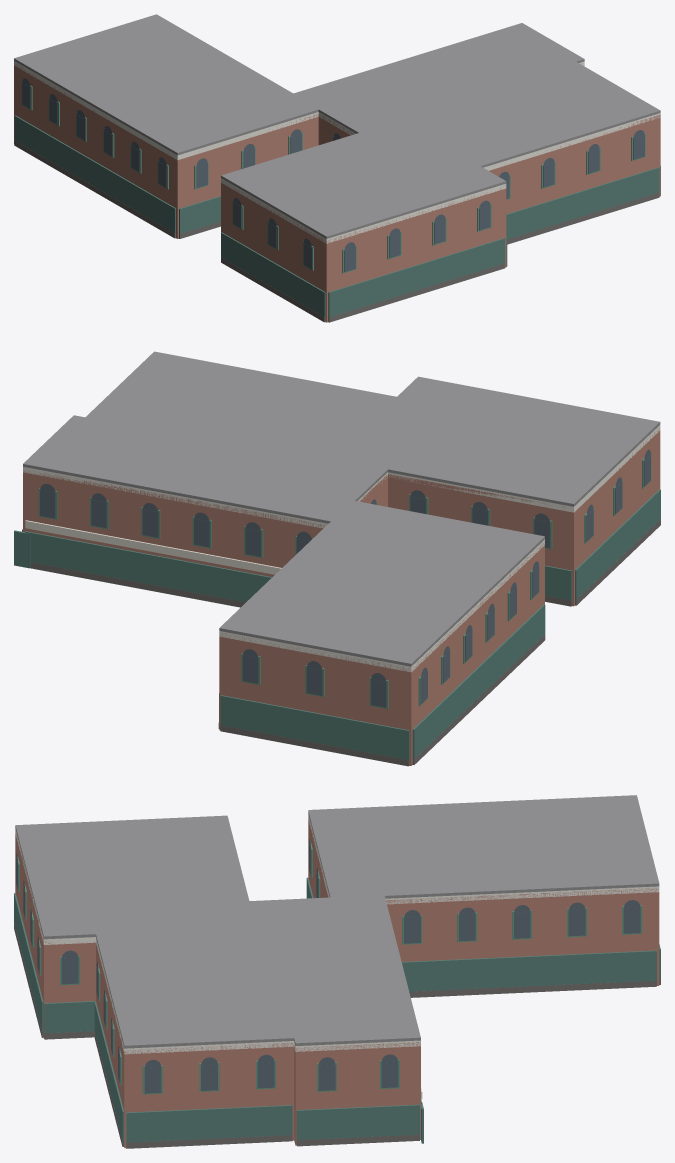
The model's file is s34_gis_248056_820832_detail.glb.
3 views of the same model, one above another, from view 1: azimuth 30°, elevation 25°; view 2: azimuth 150°, elevation 25°; view 3: azimuth 270°, elevation 25° (orthographic). The views are drawn at different scales.
Parts seen in each view (by area): view 1: roofcap, mass, band_7_1.55, cornice, band_12_1.55, band_5_1.55, band_8_1.55, band_11_1.55, band_7_0.25, band_12_0.25, band_5_0.25, band_8_0.25; view 2: roofcap, mass, band_1_1.55, band_13_1.55, cornice, band_12_1.55, band_8_1.55, band_1_3.5, band_1_0.25, band_13_0.25, band_12_0.25, band_9_1.55 (+1 smaller); view 3: roofcap, mass, band_0_1.55, band_4_1.55, cornice, band_2_1.55, band_0_0.25, band_6_1.55, band_5_1.55, band_4_0.25, band_7_1.55, band_2_0.25.
Boxes of the visible parts, box(x1,y1,x2,y2) form: roofcap: box(14, 14, 660, 238); mass: box(14, 64, 660, 322); band_7_1.55: box(328, 238, 505, 319); cornice: box(14, 61, 660, 243); band_12_1.55: box(14, 115, 175, 235); band_5_1.55: box(506, 167, 659, 239); band_8_1.55: box(221, 232, 325, 317); band_11_1.55: box(179, 196, 220, 233); band_7_0.25: box(328, 263, 505, 322); band_12_0.25: box(14, 140, 175, 238); band_5_0.25: box(507, 192, 659, 244); band_8_0.25: box(221, 257, 325, 322); roofcap: box(23, 351, 660, 666); mass: box(23, 428, 660, 765); band_1_1.55: box(25, 531, 271, 602); band_13_1.55: box(220, 695, 409, 762); cornice: box(23, 425, 660, 672); band_12_1.55: box(412, 604, 545, 762); band_8_1.55: box(575, 489, 660, 603); band_1_3.5: box(25, 520, 281, 574); band_1_0.25: box(30, 562, 245, 607); band_13_0.25: box(220, 725, 409, 766); band_12_0.25: box(412, 634, 545, 764); band_9_1.55: box(545, 565, 571, 603); roofcap: box(15, 795, 659, 1048); mass: box(15, 815, 659, 1148); band_0_1.55: box(401, 950, 656, 991); band_4_1.55: box(126, 1105, 292, 1142); cornice: box(15, 814, 659, 1054); band_2_1.55: box(296, 1104, 419, 1140); band_0_0.25: box(409, 980, 656, 997); band_6_1.55: box(44, 1001, 95, 1033); band_5_1.55: box(94, 1002, 124, 1140); band_4_0.25: box(126, 1135, 292, 1148); band_7_1.55: box(14, 893, 43, 1031); band_2_0.25: box(296, 1134, 419, 1146).
Bounding box in the file's own units: 44.06 × 8.35 × 47.82.
